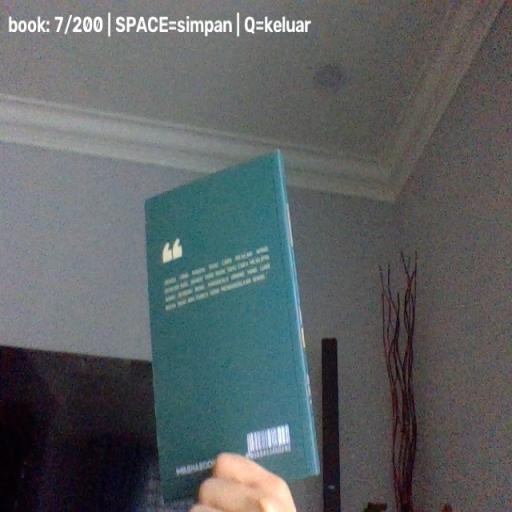Book: (144, 150, 321, 504)
